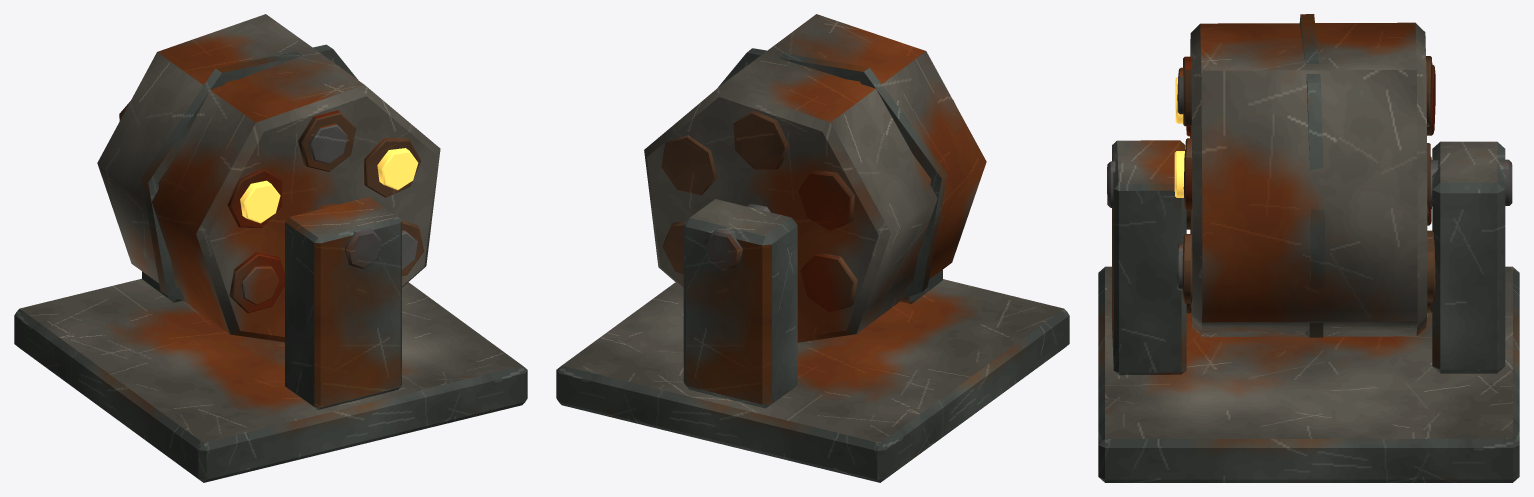
The model's file is R4X_ReloadBooster_LOD1.glb.
The picture shows the model from 3 angles, left to right: view 1: azimuth 30°, elevation 25°; view 2: azimuth 150°, elevation 25°; view 3: azimuth 270°, elevation 25°; orthographic projection. The views are drawn at different scales.
Visible parts, largest first — view 1: R4X_ReloadBooster_LOD1; view 2: R4X_ReloadBooster_LOD1; view 3: R4X_ReloadBooster_LOD1.
Part boxes in pixels (box(x1,y1,x2,y2)): R4X_ReloadBooster_LOD1: box(14, 14, 527, 482); R4X_ReloadBooster_LOD1: box(556, 14, 1069, 482); R4X_ReloadBooster_LOD1: box(1098, 14, 1519, 482).
Size of the model in its own units: 0.52 by 0.4823 by 0.52.
5 materials, 4 textured.
